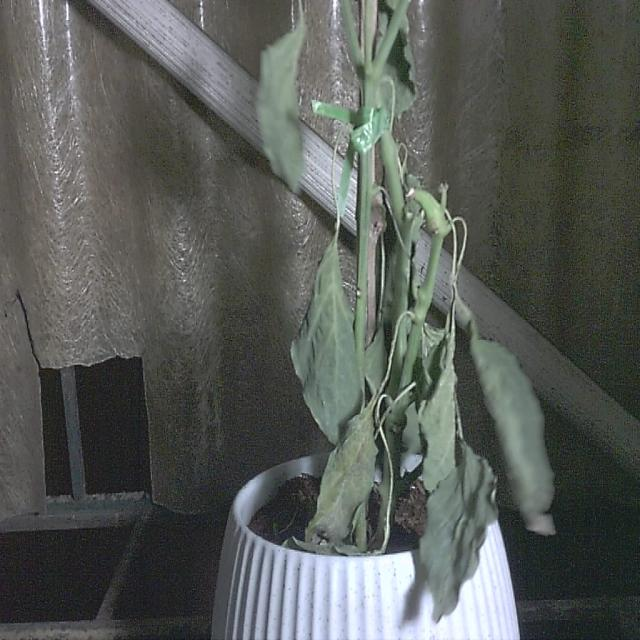Leaf: (289, 239, 364, 450), (302, 403, 374, 551)
